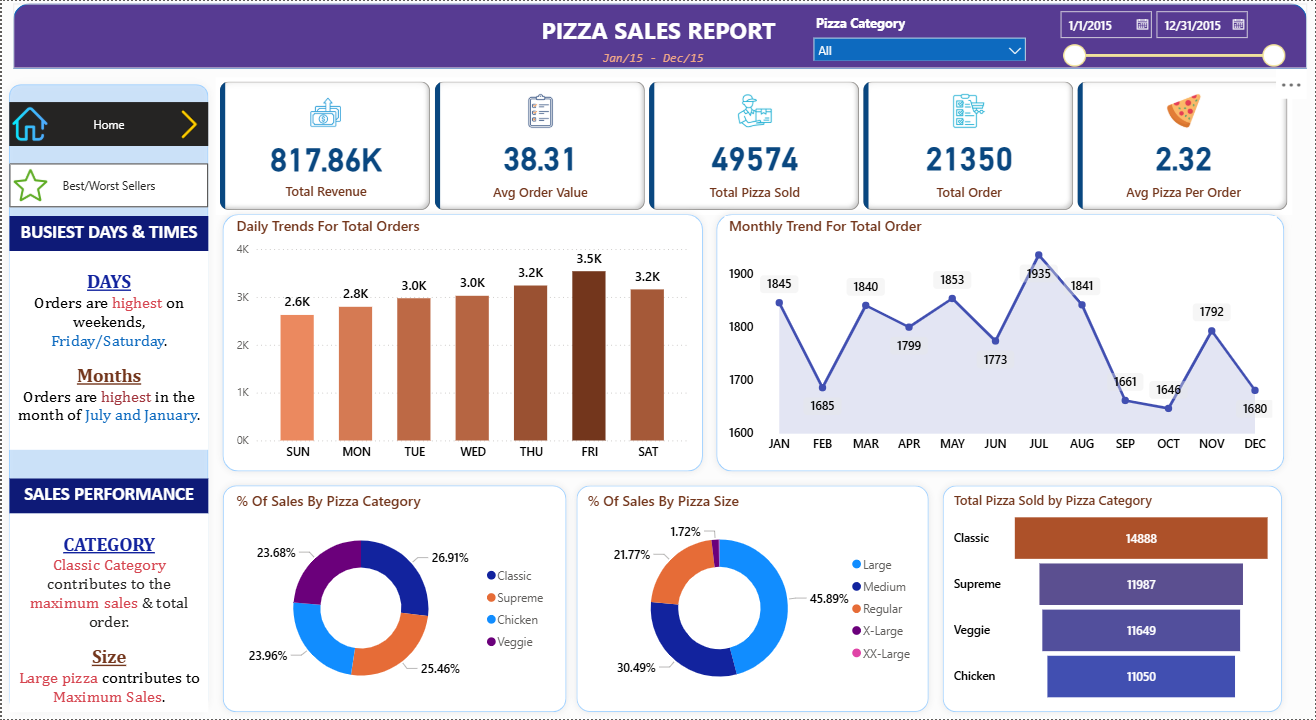

The page's visual inventory and layout, read from the dashboard file:
{"tool":"powerbi","page":{"name":"Home","canvas":[1500,820],"ordinal":0},"visuals":[{"type":"cardVisual","fields":{"Data":["pizza_sales.Total Revenue","pizza_sales.Avg Order Value","pizza_sales.Total Pizza Sold","pizza_sales.Total Order","pizza_sales.Avg Pizza Per Order"]},"box":[243.8,87.5,1230,157.5],"z":0},{"type":"shape","box":[12.5,2.5,1478.8,75],"z":1000},{"type":"textbox","box":[611.2,10,286.2,58.8],"z":2000},{"type":"textbox","box":[681.2,50,136.2,27.5],"z":3000},{"type":"shape","box":[243.8,235,565,310],"z":4000},{"type":"columnChart","title":"Daily Trends For Total Orders","fields":{"Category":["pizza_sales.Order Day"],"Y":["pizza_sales.Total Order"]},"box":[262.5,245,527.5,288.8],"z":5000},{"type":"shape","box":[808.8,235,665,310],"z":6000},{"type":"areaChart","title":"Monthly Trend For Total Order","fields":{"Category":["pizza_sales.Order Month"],"Y":["pizza_sales.Total Order"]},"box":[825,245,631.2,280],"z":7000},{"type":"shape","box":[1067.5,545,403.8,275],"z":8000},{"type":"shape","box":[648.8,545,418.8,275],"z":9000},{"type":"shape","box":[243.8,545,408.8,275],"z":10000},{"type":"donutChart","title":"% Of Sales By Pizza Category","fields":{"Category":["pizza_sales.pizza_category"],"Y":["pizza_sales.Total Revenue"]},"box":[262.5,560,370,246.2],"z":11000},{"type":"donutChart","title":"% Of Sales By Pizza Size","fields":{"Category":["pizza_sales.pizza_size"],"Y":["pizza_sales.Total Revenue"]},"box":[663.8,560,387.5,246.2],"z":12000},{"type":"funnel","title":"Total Pizza Sold by Pizza Category","fields":{"Category":["pizza_sales.pizza_category"],"Y":["pizza_sales.Total Pizza Sold"]},"box":[1082.5,560,373.8,246.2],"z":13000},{"type":"shape","box":[0,87.5,243.8,732.5],"z":14000},{"type":"textbox","box":[8.7,245.3,227.3,40],"z":15000},{"type":"textbox","box":[8.8,285,227.5,227.5],"z":16000},{"type":"textbox","box":[8.8,545,227.5,40],"z":17000},{"type":"textbox","box":[8.8,585,227.5,227.5],"z":18000},{"type":"slicer","fields":{"Values":["pizza_sales.pizza_category"]},"box":[917.1,10,262.9,58.6],"z":19000},{"type":"slicer","fields":{"Values":["pizza_sales.order_date"]},"box":[1197.1,1.4,277.1,77.1],"z":20000},{"type":"pageNavigator","box":[8.6,115.7,227.1,50],"z":20001},{"type":"pageNavigator","box":[8.6,185.7,227.1,50],"z":20002},{"type":"image","box":[192.9,115.7,42.9,50],"z":20003},{"type":"image","box":[7.1,115.7,50,50],"z":20004},{"type":"image","box":[8.6,185.7,48.6,50],"z":20005}]}

Visuals, with their boxes in screenshot pixels (x1, y1, x2, y2), scaled from the page's 1500x820 canvas onto the 1316x720 screenshot:
cardVisual - pizza_sales.Total Revenue x pizza_sales.Avg Order Value: locate(214, 77, 1293, 215)
shape: locate(11, 2, 1308, 68)
textbox: locate(536, 9, 787, 60)
textbox: locate(598, 44, 717, 68)
shape: locate(214, 206, 710, 479)
"Daily Trends For Total Orders" columnChart: locate(230, 215, 693, 469)
shape: locate(710, 206, 1293, 479)
"Monthly Trend For Total Order" areaChart: locate(724, 215, 1278, 461)
shape: locate(937, 479, 1291, 719)
shape: locate(569, 479, 937, 719)
shape: locate(214, 479, 573, 719)
"% Of Sales By Pizza Category" donutChart: locate(230, 492, 555, 708)
"% Of Sales By Pizza Size" donutChart: locate(582, 492, 922, 708)
"Total Pizza Sold by Pizza Category" funnel: locate(950, 492, 1278, 708)
shape: locate(0, 77, 214, 719)
textbox: locate(8, 215, 207, 251)
textbox: locate(8, 250, 207, 450)
textbox: locate(8, 479, 207, 514)
textbox: locate(8, 514, 207, 713)
slicer - pizza_sales.pizza_category: locate(805, 9, 1035, 60)
slicer - pizza_sales.order_date: locate(1050, 1, 1293, 69)
pageNavigator: locate(8, 102, 207, 145)
pageNavigator: locate(8, 163, 207, 207)
image: locate(169, 102, 207, 145)
image: locate(6, 102, 50, 145)
image: locate(8, 163, 50, 207)
